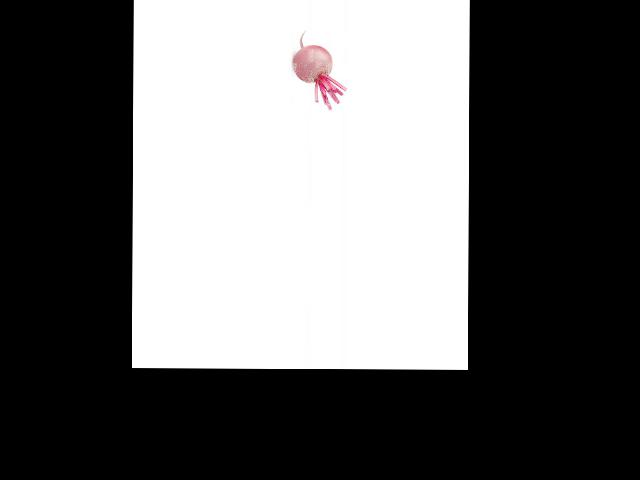beet: (293, 30, 346, 110)
